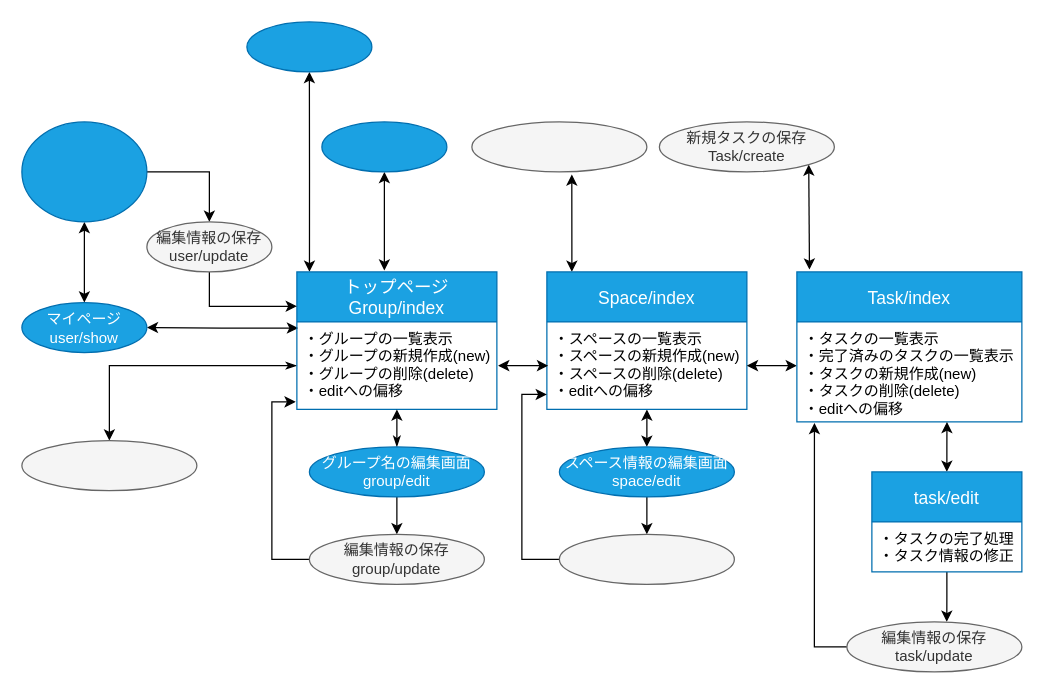
Image size: 1044x694. Some labels were removed from this diagram. Here are the shapes that lost their labels. From the top down, the box of each, then its label:
(246, 21, 372, 72): ログイン画面 session/new
(321, 121, 447, 172): 新規登録画面 registration/new
(471, 121, 647, 172): 新規スペースの保存 space/create
(21, 121, 147, 222): ユーザー情報編集ページ user/edit
(21, 439, 197, 491): 新規グループの保存 group/create
(558, 533, 734, 584): 編集情報の保存 space/update
